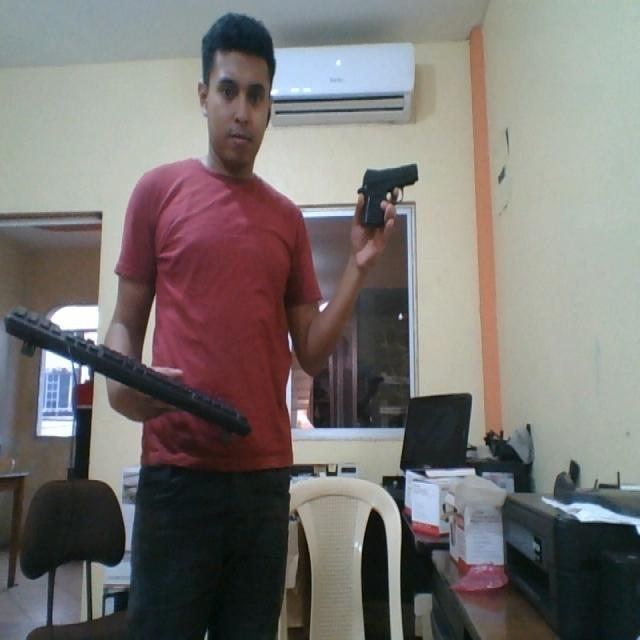weapon: (349, 160, 422, 234)
